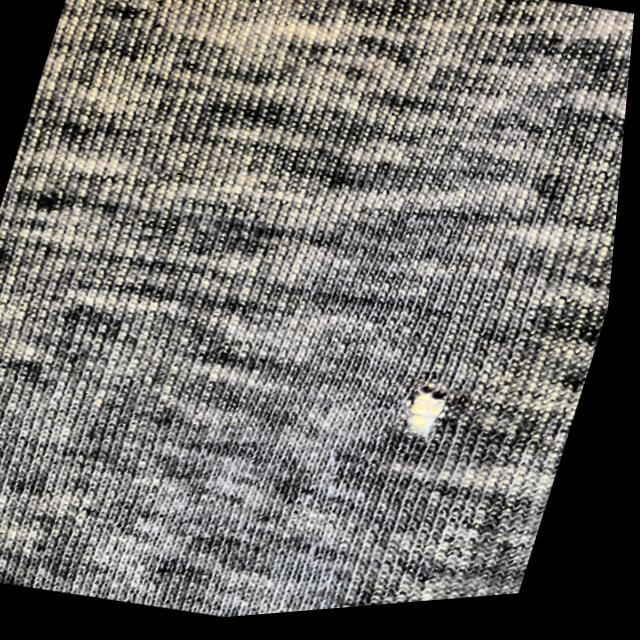Hole: (390, 379, 474, 461)
